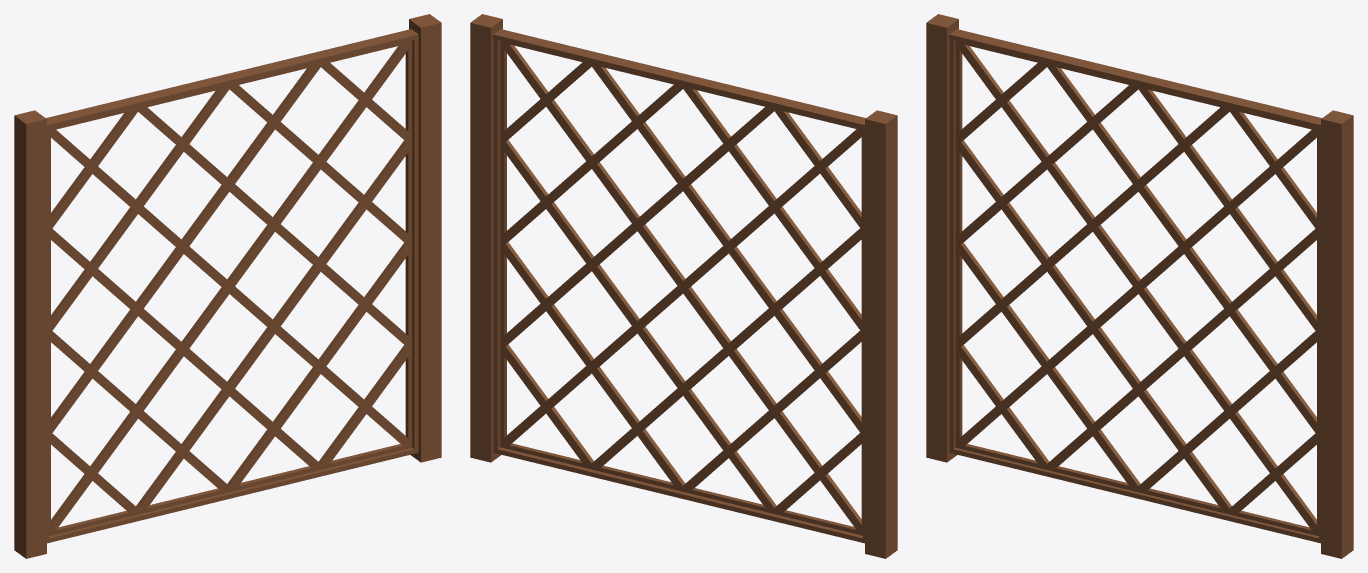
The model's file is SM_fence_06_A.glb.
The picture shows the model from 3 angles, left to right: view 1: azimuth 30°, elevation 25°; view 2: azimuth 150°, elevation 25°; view 3: azimuth 330°, elevation 25°; orthographic projection.
Parts seen in each view (by area): view 1: SM_fence_06_A; view 2: SM_fence_06_A; view 3: SM_fence_06_A.
Part boxes in pixels (left/top/right/bottom): SM_fence_06_A: left=14, top=14, right=441, bottom=558; SM_fence_06_A: left=470, top=14, right=897, bottom=558; SM_fence_06_A: left=926, top=14, right=1353, bottom=558.
Bounding box in the file's own units: 2 × 2 × 0.1.
Materials: 1 (1 with a texture image).
